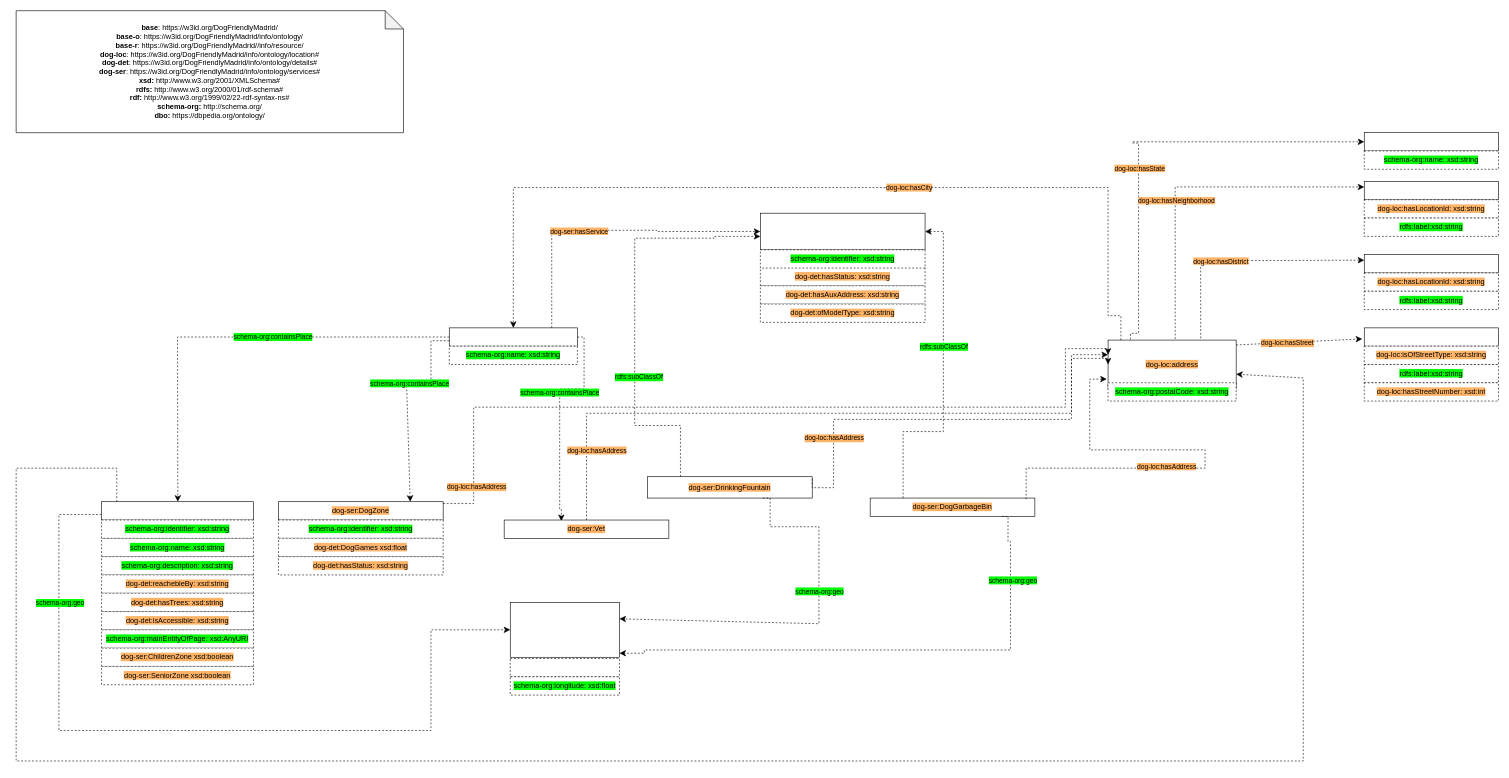
This 1509x778 diagram has some shape labels left out. Here are the shapes that lost their labels. From the top down, the box of each, then its label:
(1364, 132, 1498, 151): schema-org:State
(1364, 181, 1498, 200): dog-loc:Neighborhood
(760, 213, 925, 250): doc-ser:Services
(1364, 254, 1498, 273): dog-loc:District
(449, 327, 577, 346): schema-org:City
(1364, 327, 1498, 346): dbo:Street
(101, 501, 253, 520): schema-org:Park
(510, 602, 619, 657): schema-org:GeoCoordinates
(510, 658, 619, 677): schema-org:latitude: xsd:float
